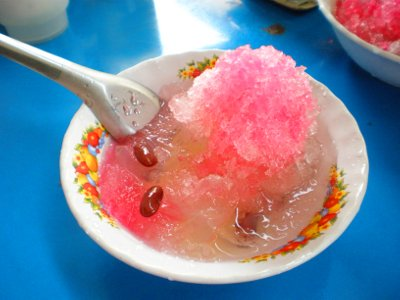O-eo: (76, 46, 352, 274)
